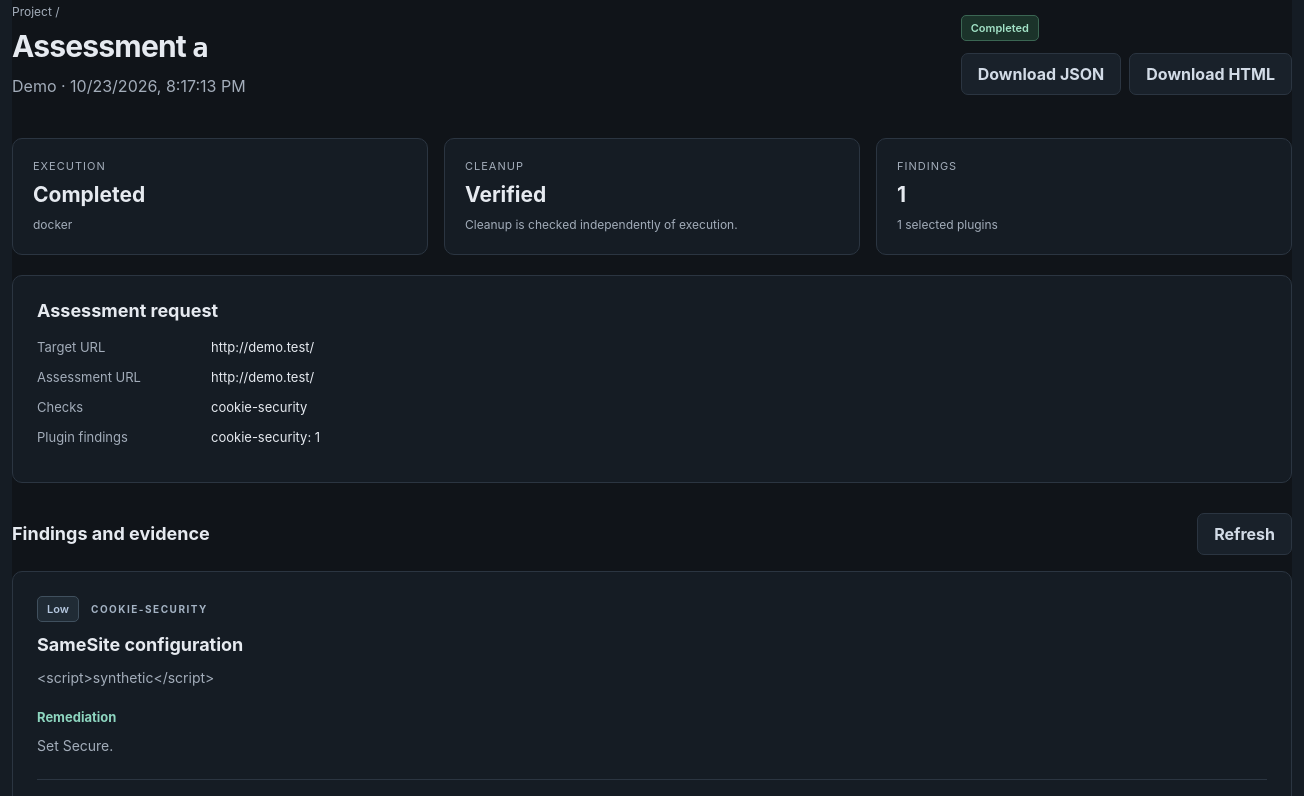
Test: disables both exports during a request and allows retry after failure
Click the button "Download JSON" at point(1041, 74), box [961,53,1121,95]
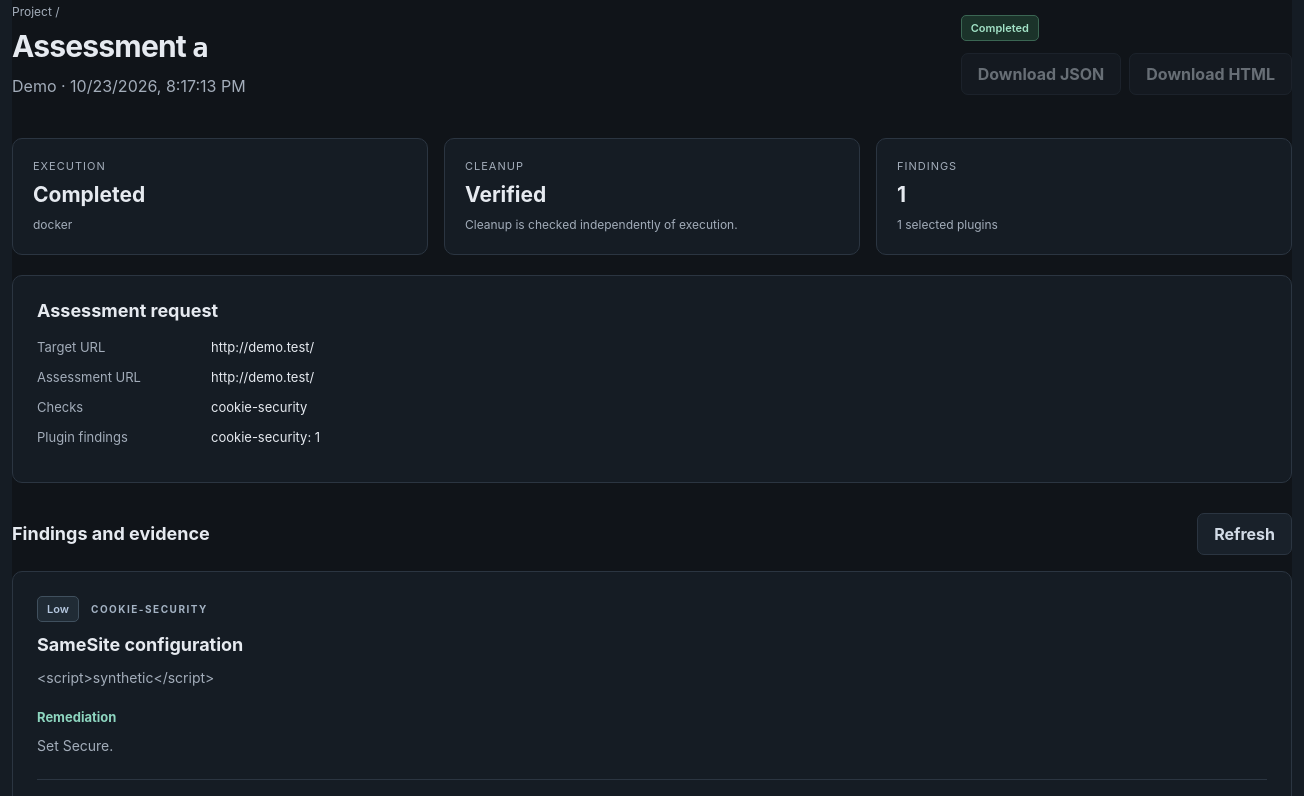
Now the button "Download JSON" is disabled, box [961,53,1121,95]
Now the button "Download HTML" is disabled
Click the button "Download HTML" at point(1211, 74), box [1129,53,1292,95]
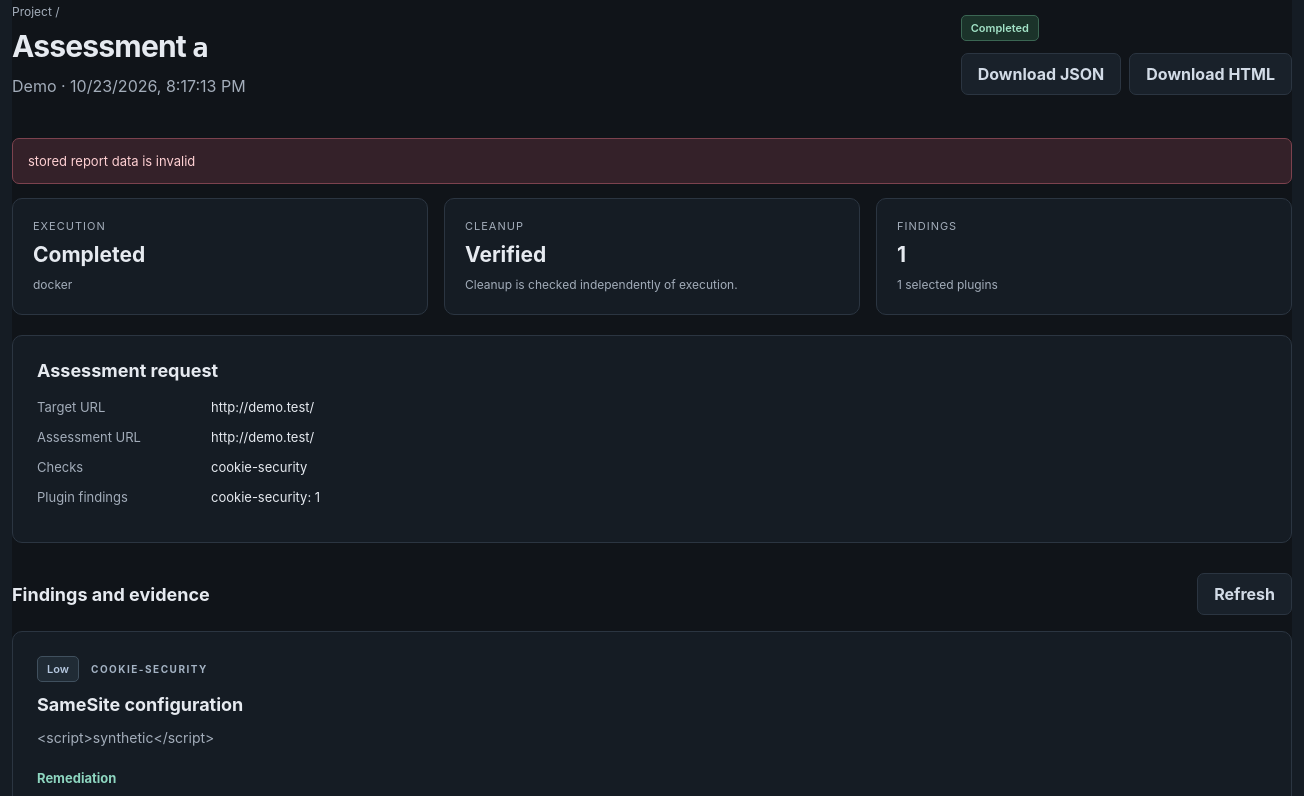
Expected: the heading "SameSite configuration" is shown, [37,694,243,715]
Now the message reads "stored report data is invalid", box [28,153,195,169]
Now the button "Download JSON" is enabled, box [961,53,1121,95]
Click the button "Download HTML" at point(1211, 74), box [1129,53,1292,95]
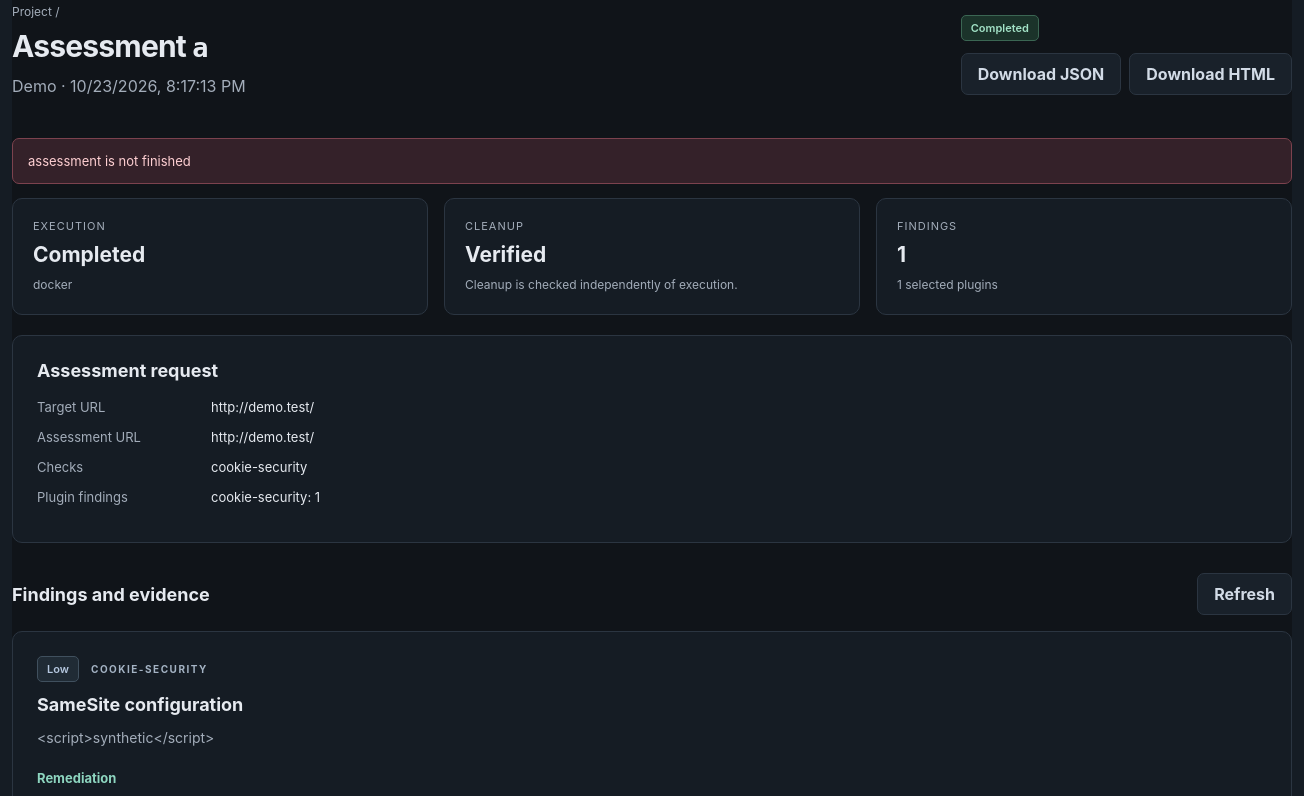
Now the text "assessment is not finished" is shown, box [12,138,1292,184]
